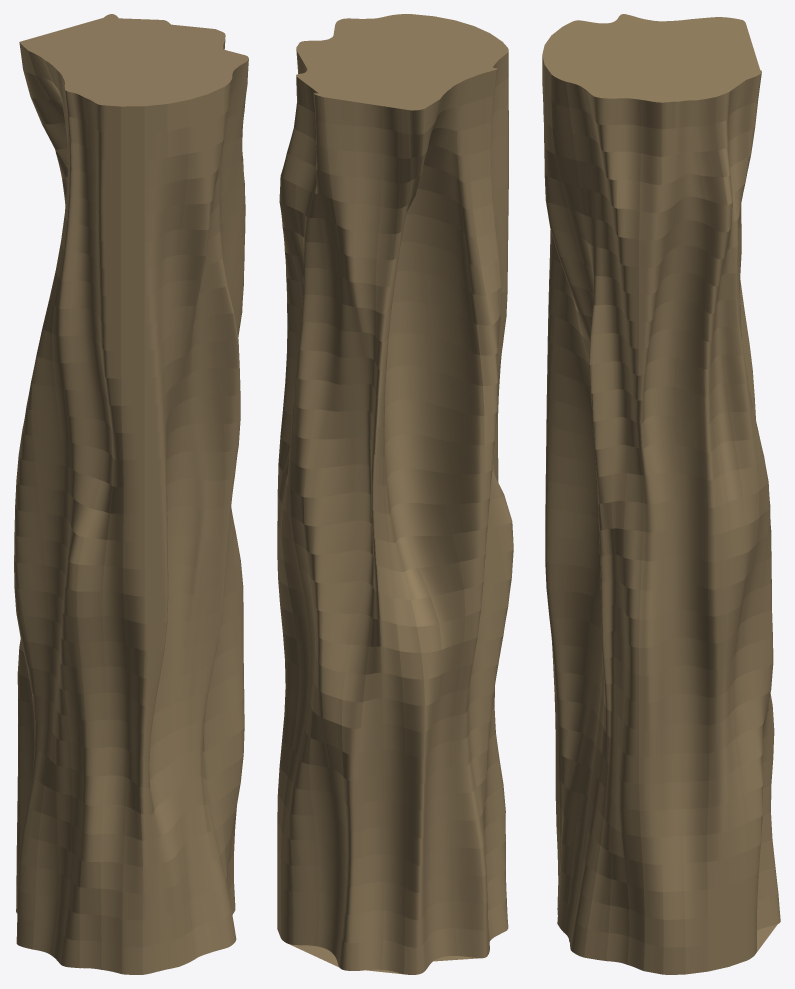
File: Wood resource.fbx
3 views of the same model, side by side, from view 1: azimuth 30°, elevation 25°; view 2: azimuth 150°, elevation 25°; view 3: azimuth 270°, elevation 25° (orthographic).
Visible parts, largest first — view 1: Cylindre; view 2: Cylindre; view 3: Cylindre.
Boxes of the visible parts, bbox=[...] form: Cylindre: bbox=[14, 14, 248, 974]; Cylindre: bbox=[277, 14, 513, 974]; Cylindre: bbox=[542, 14, 780, 974].
Bounding box in the file's own units: 198 × 803 × 199.
